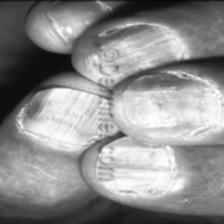Toxin: (22, 82, 78, 122)
